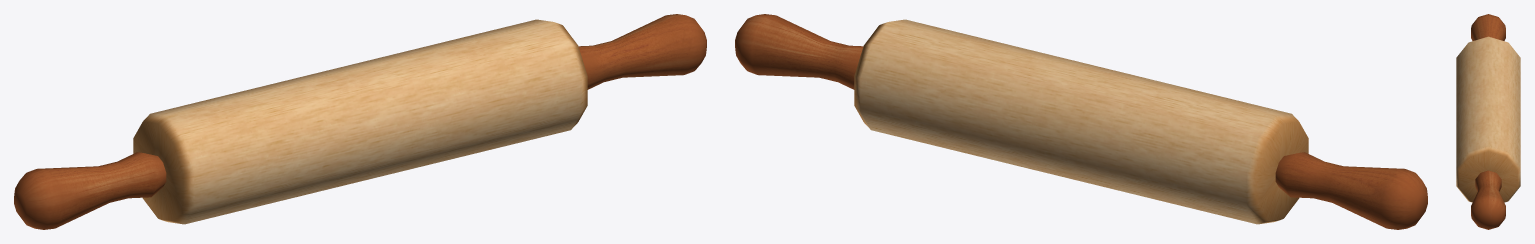
File: RollingPin.fbx
3 views of the same model, side by side, from view 1: azimuth 30°, elevation 25°; view 2: azimuth 150°, elevation 25°; view 3: azimuth 270°, elevation 25° (orthographic). The views are drawn at different scales.
Parts seen in each view (by area): view 1: RollingPin; view 2: RollingPin; view 3: RollingPin.
Boxes of the visible parts, <box> form: RollingPin: <box>14,14,706,229</box>; RollingPin: <box>735,14,1427,229</box>; RollingPin: <box>1456,14,1520,229</box>.
Bounding box in the file's own units: 165 × 24.52 × 23.32.
